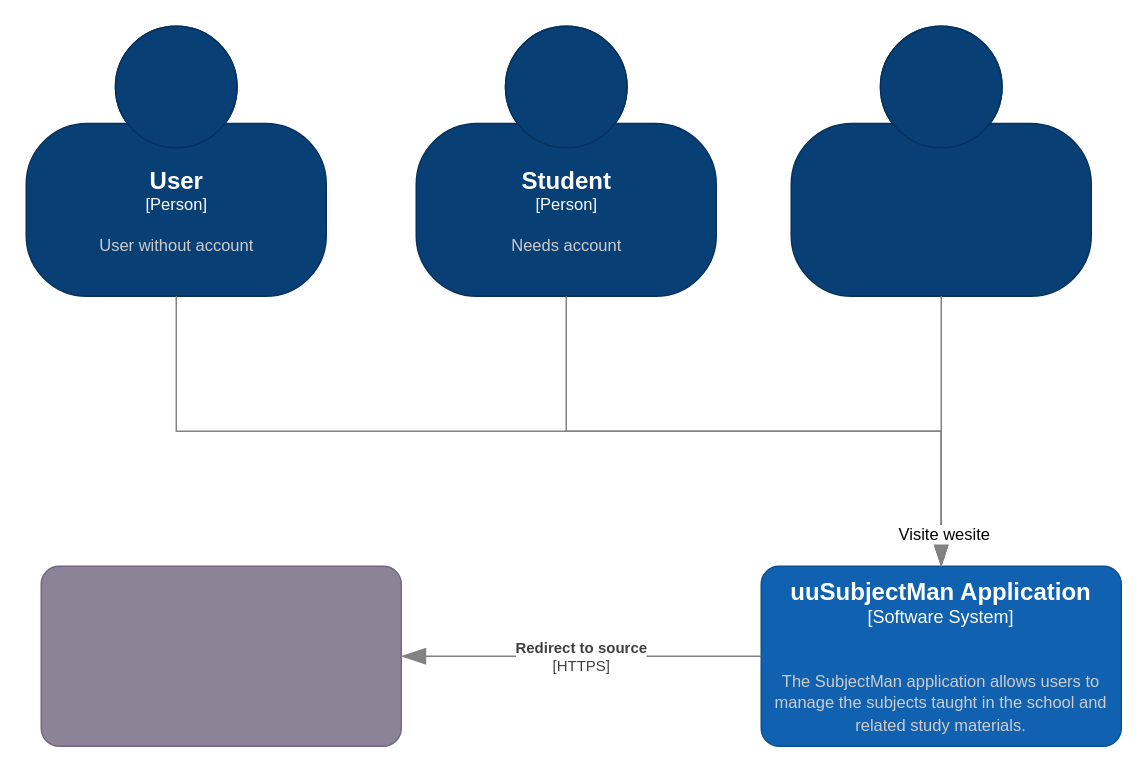
Some shapes in this 1148 by 773 pixel diagram are drawn without their labels. Here are the shapes that lost their labels. From the top down, the centre of each, then its label:
At point 940,160: "Admin [Person] Manage all".
At point 220,655: "External Sources [Service] Links to materials".
